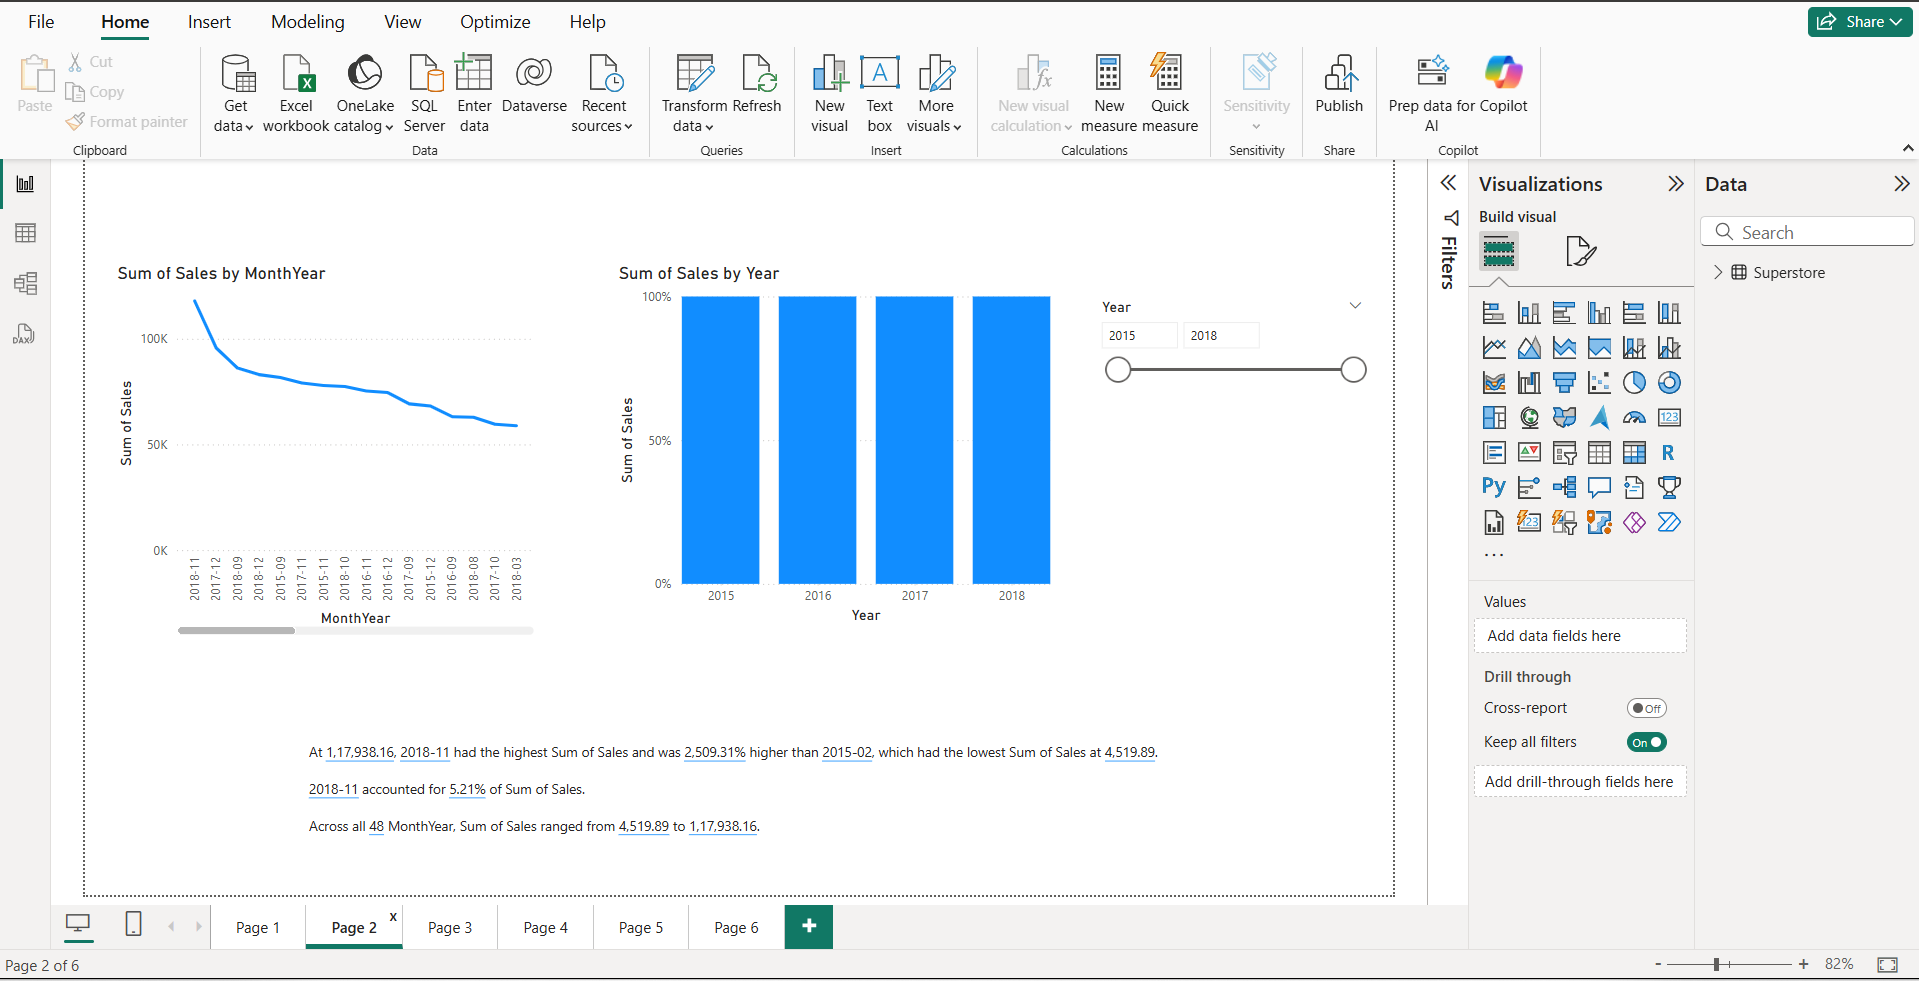

This screenshot's page, from the dashboard's own definition file:
{"tool":"powerbi","page":{"name":"Page 2","canvas":[1280,720],"ordinal":1},"visuals":[{"type":"lineChart","fields":{"Category":["train.MonthYear"],"Y":["Sum(train.Sales)"]},"box":[27.4,101.5,417.2,369.1],"z":0},{"type":"hundredPercentStackedColumnChart","fields":{"Category":["train.Year"],"Y":["Sum(train.Sales)"]},"box":[517.3,101.5,432.2,358.1],"z":1000},{"type":"slicer","fields":{"Values":["train.Year"]},"box":[982.5,130.4,279.9,279.9],"z":2000},{"type":"textbox","box":[214.1,566.7,1038.8,153.7],"z":3000}]}

Visuals, with their boxes on the page's 1280x720 design canvas (x1, y1, x2, y2). These are canvas units, not pixel positions in the 1919x981 screenshot, which may show the page scaled, cropped or inside an application window:
lineChart - train.MonthYear x Sum(train.Sales): (left=27, top=102, right=445, bottom=471)
hundredPercentStackedColumnChart - train.Year x Sum(train.Sales): (left=517, top=102, right=950, bottom=460)
slicer - train.Year: (left=982, top=130, right=1262, bottom=410)
textbox: (left=214, top=567, right=1253, bottom=720)
